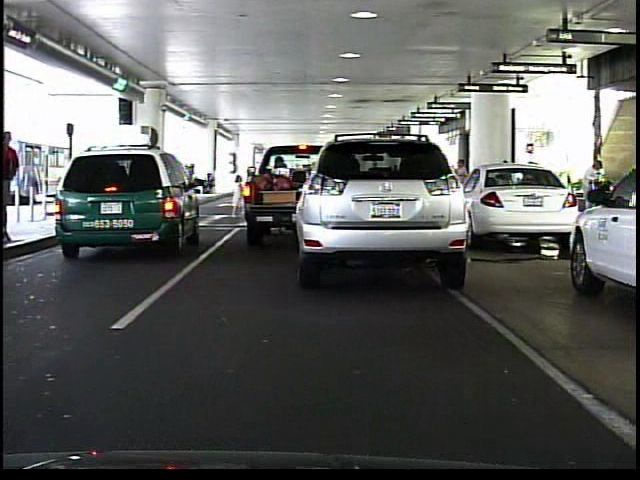person: (221, 169, 251, 223), (452, 156, 472, 209)
